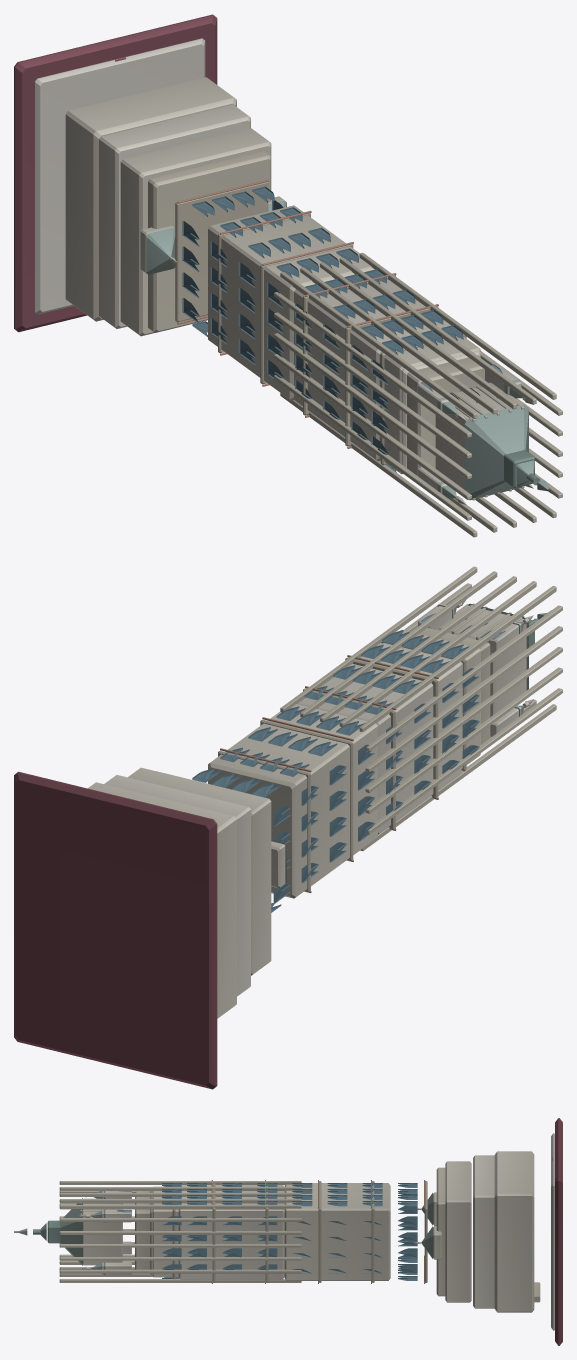
Rendered from woolworth-building.glb.
3 views of the same model, one above another, from view 1: azimuth 30°, elevation 25°; view 2: azimuth 150°, elevation 25°; view 3: azimuth 270°, elevation 25° (orthographic). The views are drawn at different scales.
Visible parts, largest first — view 1: cream_plinth, four_story_limestone_base, maroon_presentation_plinth, shaft_lower, shoulder_tier, attic_base, shoulder_cornice, shaft_mid, string_course_0, green_copper_pyramidal_roof, crown_cornice, shaft_upper (+15 smaller); view 2: maroon_presentation_plinth, shaft_lower, shaft_mid, shoulder_tier, four_story_limestone_base, attic_base, central_crown_tower, side_pier_3, front_pier_5, side_pier_2, side_pier_4, side_pier_1 (+12 smaller); view 3: shaft_lower, four_story_limestone_base, shaft_mid, shoulder_tier, attic_base, maroon_presentation_plinth, central_crown_tower, front_pier_9, side_pier_5, shoulder_cornice, shaft_upper, front_pier_8 (+17 smaller).
Boxes of the visible parts, x1,y1,x2,y2 form: cream_plinth: (34,38,205,314); four_story_limestone_base: (65,77,236,321); maroon_presentation_plinth: (14,14,217,332); shaft_lower: (208,205,374,400); shoulder_tier: (120,128,271,336); attic_base: (99,104,250,328); shoulder_cornice: (148,151,270,332); shaft_mid: (294,279,450,461); string_course_0: (175,182,268,322); green_copper_pyramidal_roof: (464,404,528,500); crown_cornice: (407,358,484,475); shaft_upper: (379,336,480,474); maroon_presentation_plinth: (14,771,217,1089); shaft_lower: (208,704,377,898); shaft_mid: (297,643,461,834); shoulder_tier: (128,767,271,975); four_story_limestone_base: (88,782,236,1018); attic_base: (104,775,250,996); central_crown_tower: (438,605,526,716); side_pier_3: (365,626,562,772); front_pier_5: (359,586,556,731); side_pier_2: (365,647,562,793); side_pier_4: (366,605,562,751); side_pier_1: (365,667,562,813); shaft_lower: (284,1183,390,1280); four_story_limestone_base: (494,1151,534,1312); shaft_mid: (178,1185,284,1279); shoulder_tier: (445,1161,471,1302); attic_base: (473,1155,494,1308); maroon_presentation_plinth: (555,1118,562,1345); central_crown_tower: (83,1198,122,1265); front_pier_9: (59,1205,301,1209); side_pier_5: (59,1269,301,1273); shoulder_cornice: (436,1167,445,1296); shaft_upper: (152,1186,178,1277); front_pier_8: (59,1199,301,1203).
Size of the model in its own units: 22 by 28 by 82.79.
